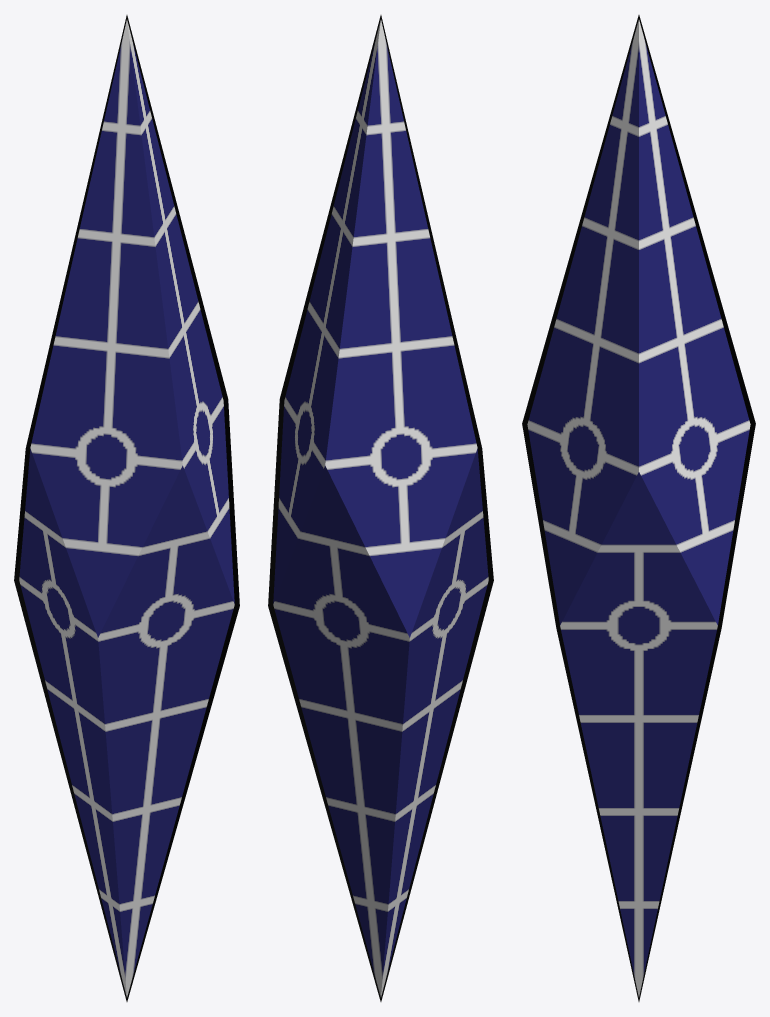
File: StageObj1.FBX
3 renders of one model, left to right at view 1: azimuth 30°, elevation 25°; view 2: azimuth 150°, elevation 25°; view 3: azimuth 270°, elevation 25°, orthographic.
Parts seen in each view (by area): view 1: Box001, outline; view 2: Box001, outline; view 3: Box001, outline.
Part boxes in pixels (x1,y1,x2,y2): Box001: [19, 20, 234, 996]; outline: [14, 15, 239, 1001]; Box001: [273, 20, 488, 996]; outline: [268, 15, 493, 1001]; Box001: [527, 20, 750, 996]; outline: [522, 15, 755, 1001].
Size of the model in its own units: 86.57 by 404 by 86.57.
2 materials, 1 textured.
